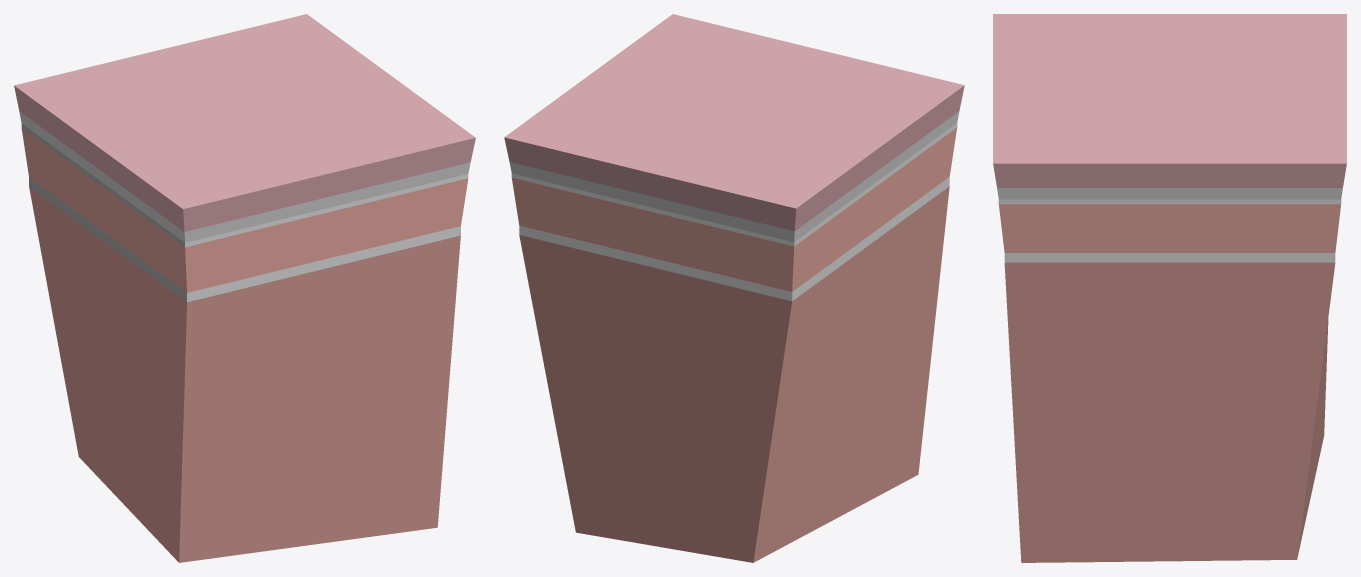
File: pork3.fbx
The picture shows the model from 3 angles, left to right: view 1: azimuth 30°, elevation 25°; view 2: azimuth 150°, elevation 25°; view 3: azimuth 270°, elevation 25°; orthographic projection. The views are drawn at different scales.
Parts seen in each view (by area): view 1: Cube.002; view 2: Cube.002; view 3: Cube.002.
Boxes of the visible parts, x1,y1,x2,y2 form: Cube.002: (14, 14, 475, 562); Cube.002: (504, 14, 964, 562); Cube.002: (993, 14, 1346, 562).
Bounding box in the file's own units: 21.95 × 28.8 × 21.95.
